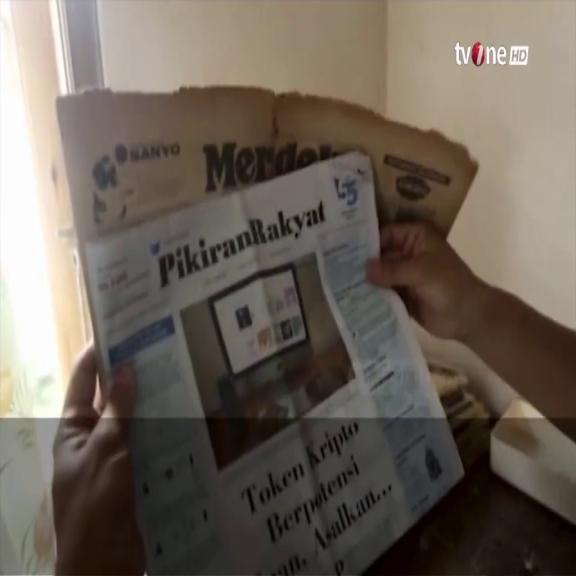Kertas: (73, 139, 463, 574)
